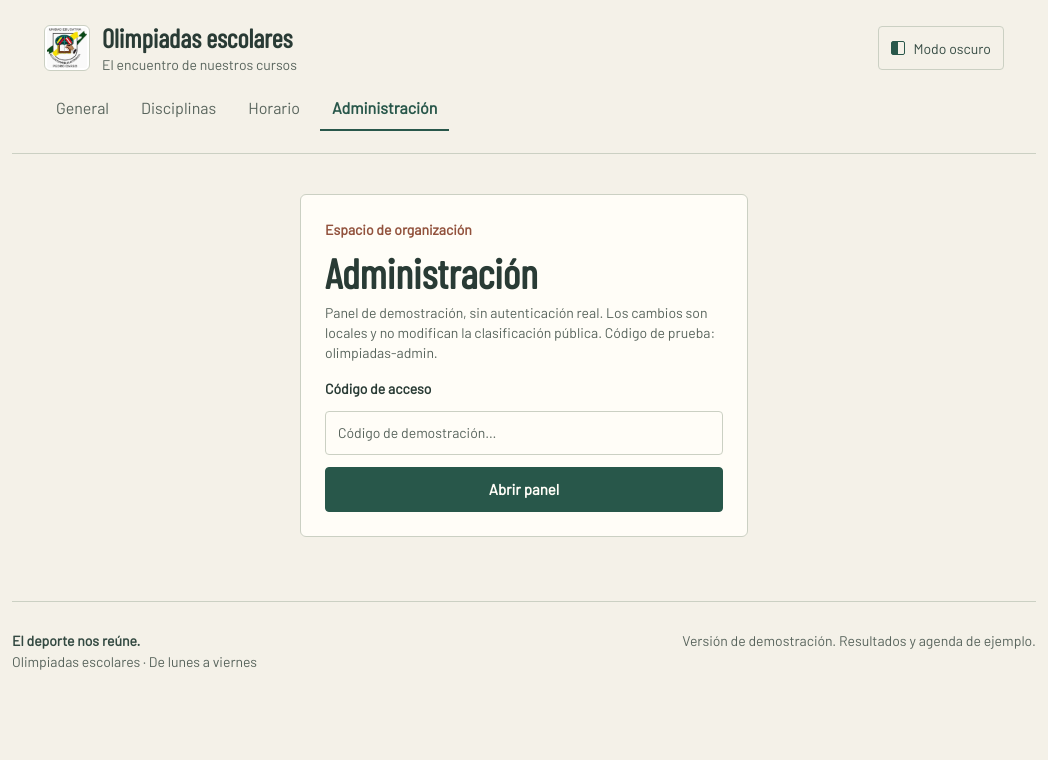
Test: keeps the demo admin flow and validation entirely in Spanish
Type "incorrect" into the password field labelled "Código de acceso" at (524, 433), box left=325, top=411, right=723, bottom=455
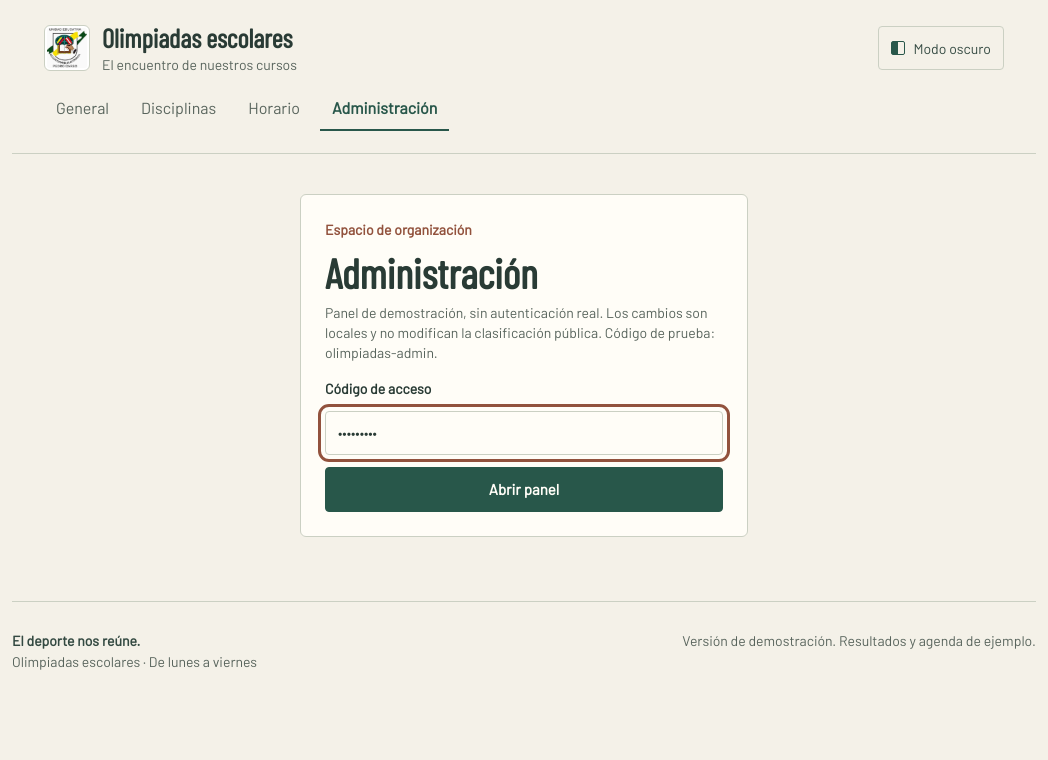
Click the button "Abrir panel" at (524, 490), box left=325, top=467, right=723, bottom=512
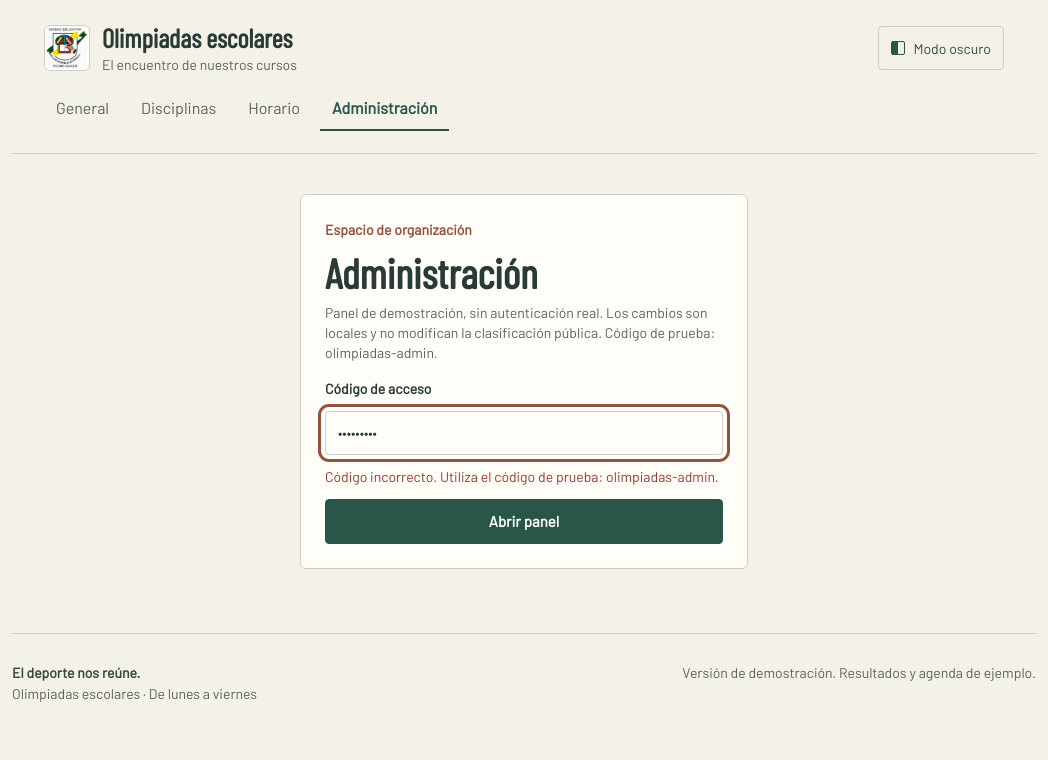
Expected: the message shows "Código incorrecto", left=325, top=468, right=719, bottom=485
Type "olimpiadas-admin" into the password field labelled "Código de acceso" at (524, 433), box left=325, top=411, right=723, bottom=455
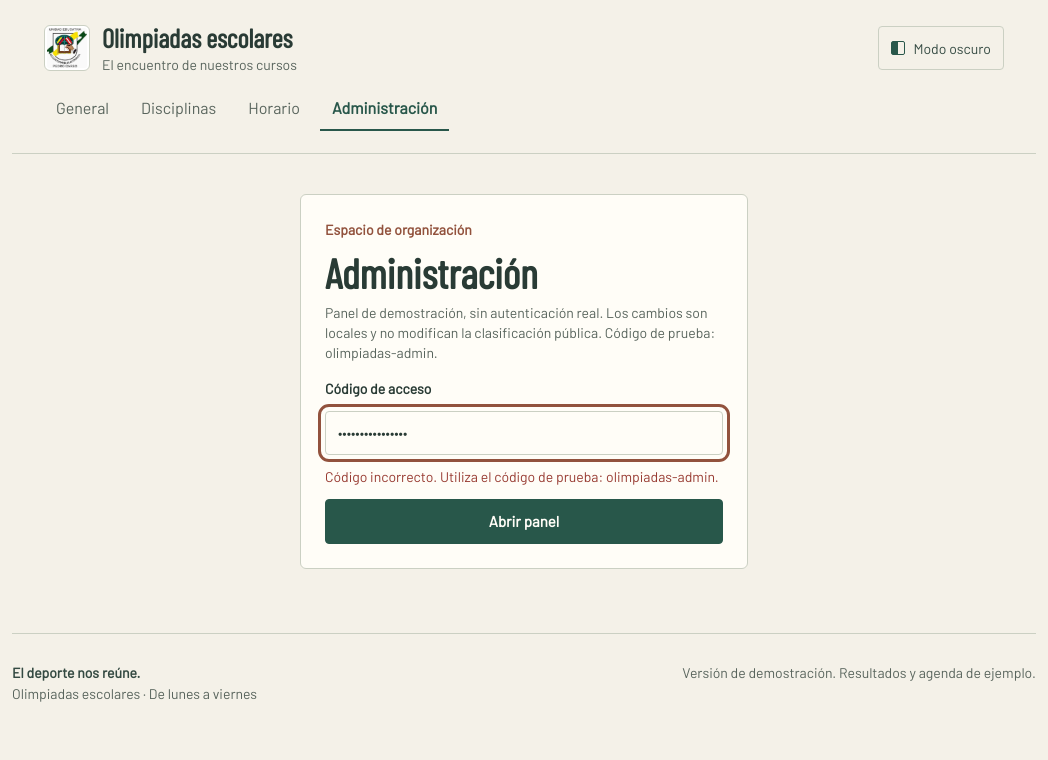
Click the button "Abrir panel" at (524, 522), box left=325, top=499, right=723, bottom=544
(page scrolled)
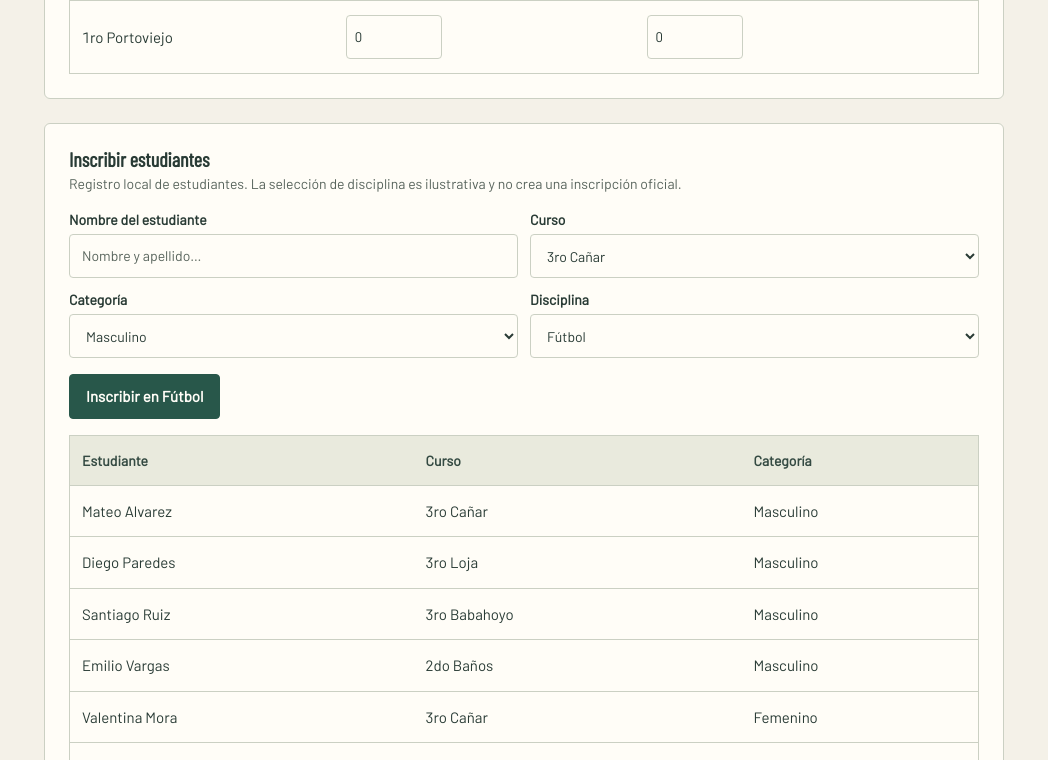
Expected: the button "Inscribir en Fútbol" is shown, left=69, top=374, right=220, bottom=419
